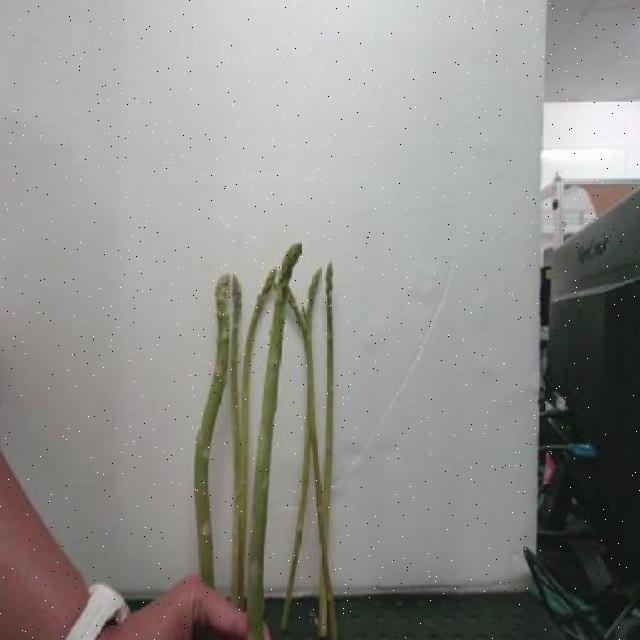aspargus: (249, 244, 303, 640), (194, 274, 232, 591)
